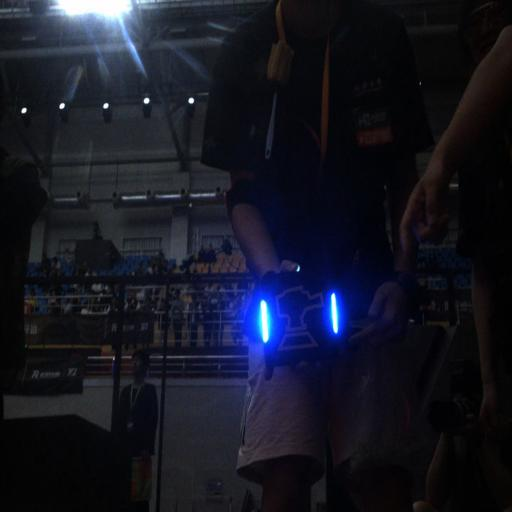target: (256, 268, 343, 366)
